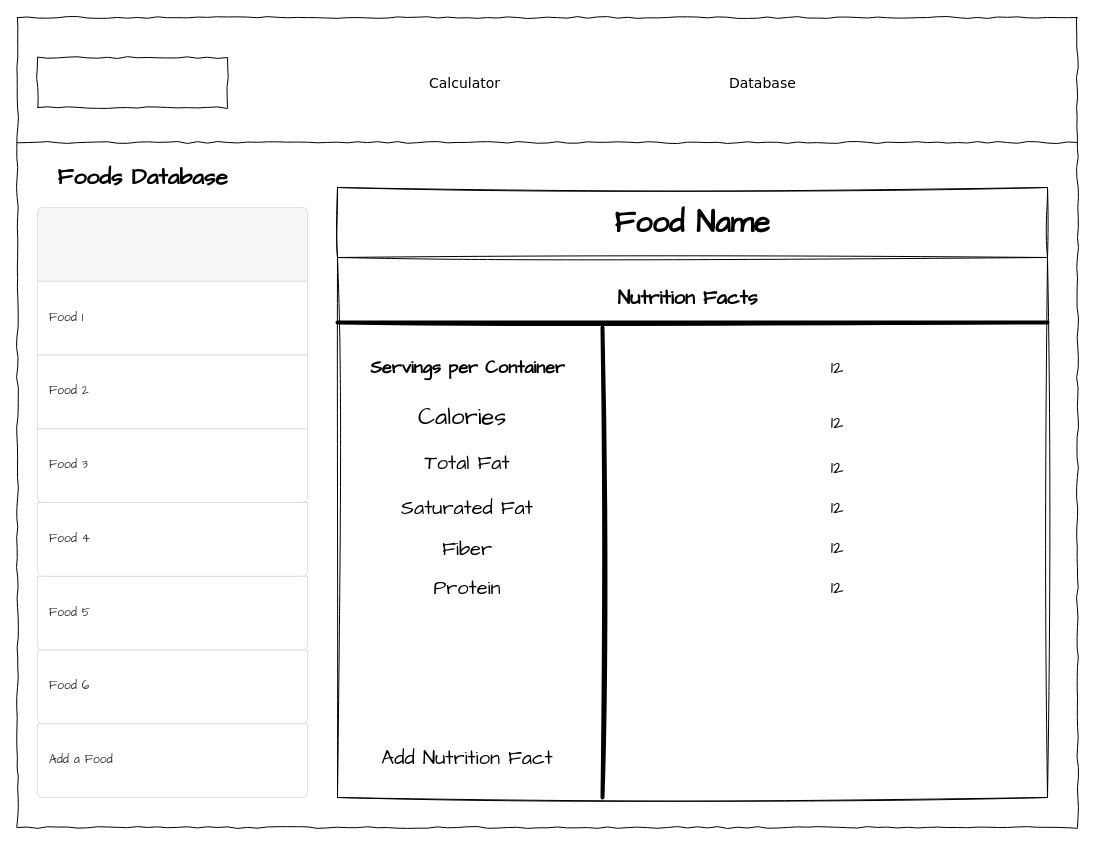
This 1095x845 diagram has some shape labels left out. The centre of each missing label's shape, as x and y in pixels:
"LOGO" goes at point (132, 82).
"Type to Filter" goes at point (172, 243).
